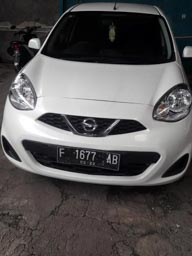plat: (57, 147, 119, 170)
